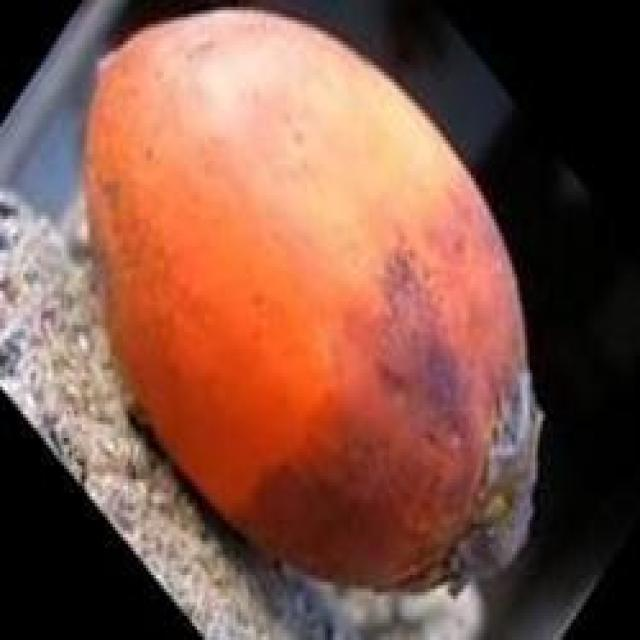good: (82, 10, 545, 637)
